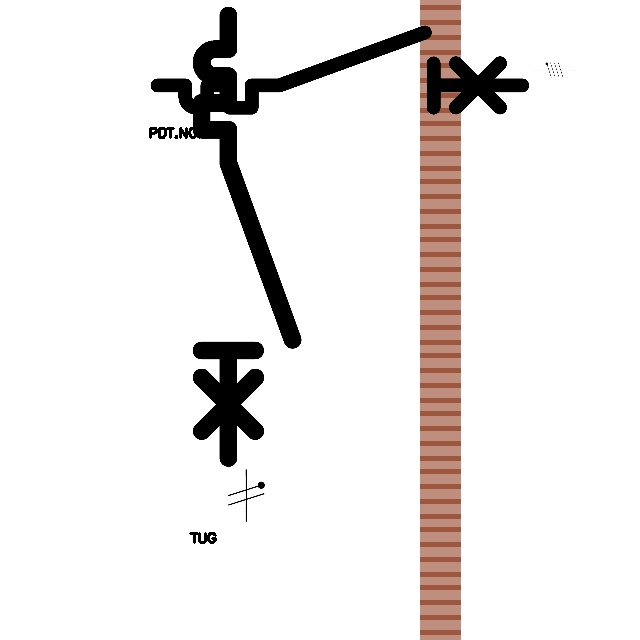interruptor_termomagnetico: (190, 4, 304, 469), (148, 23, 531, 117)
